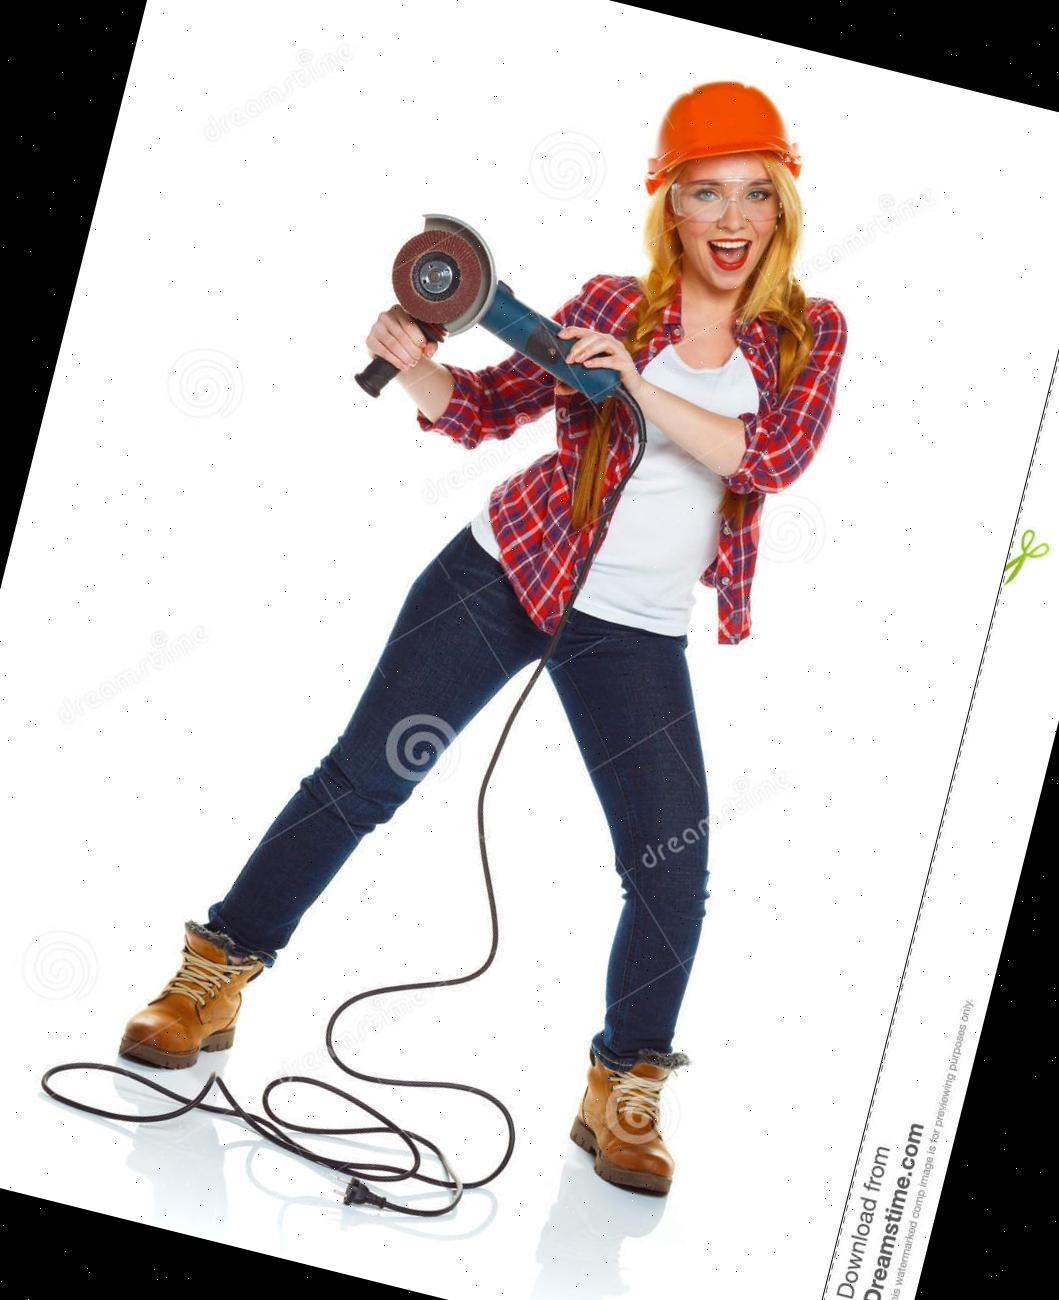helmet: (636, 63, 816, 217)
no_wear: (484, 238, 854, 658)
